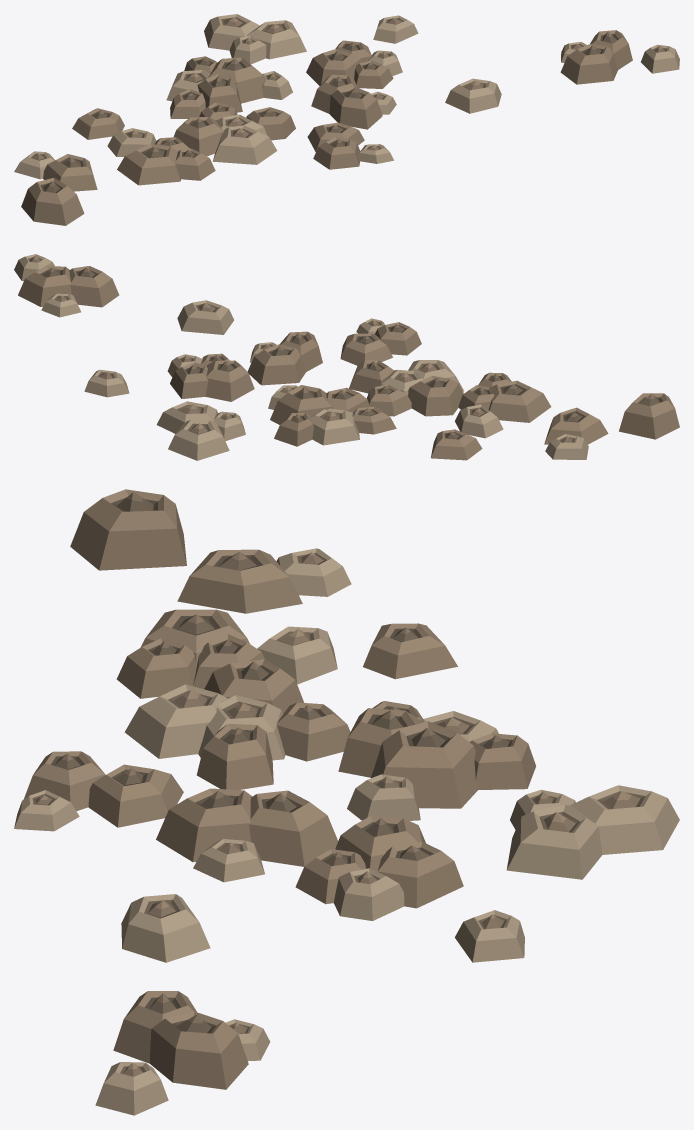
File: SM_Env_Barnacles_03.fbx
3 renders of one model, top to bottom at view 1: azimuth 30°, elevation 25°; view 2: azimuth 150°, elevation 25°; view 3: azimuth 270°, elevation 25°, orthographic. The views are drawn at different scales.
Parts seen in each view (by area): view 1: SM_Env_Barnacles_03_LOD0; view 2: SM_Env_Barnacles_03_LOD0; view 3: SM_Env_Barnacles_03_LOD0.
Boxes of the visible parts, bbox=[...] form: SM_Env_Barnacles_03_LOD0: bbox=[14, 14, 679, 225]; SM_Env_Barnacles_03_LOD0: bbox=[14, 254, 679, 460]; SM_Env_Barnacles_03_LOD0: bbox=[14, 489, 679, 1115].
Size of what is drawn, in the model's own units: 238 by 11.12 by 114.
